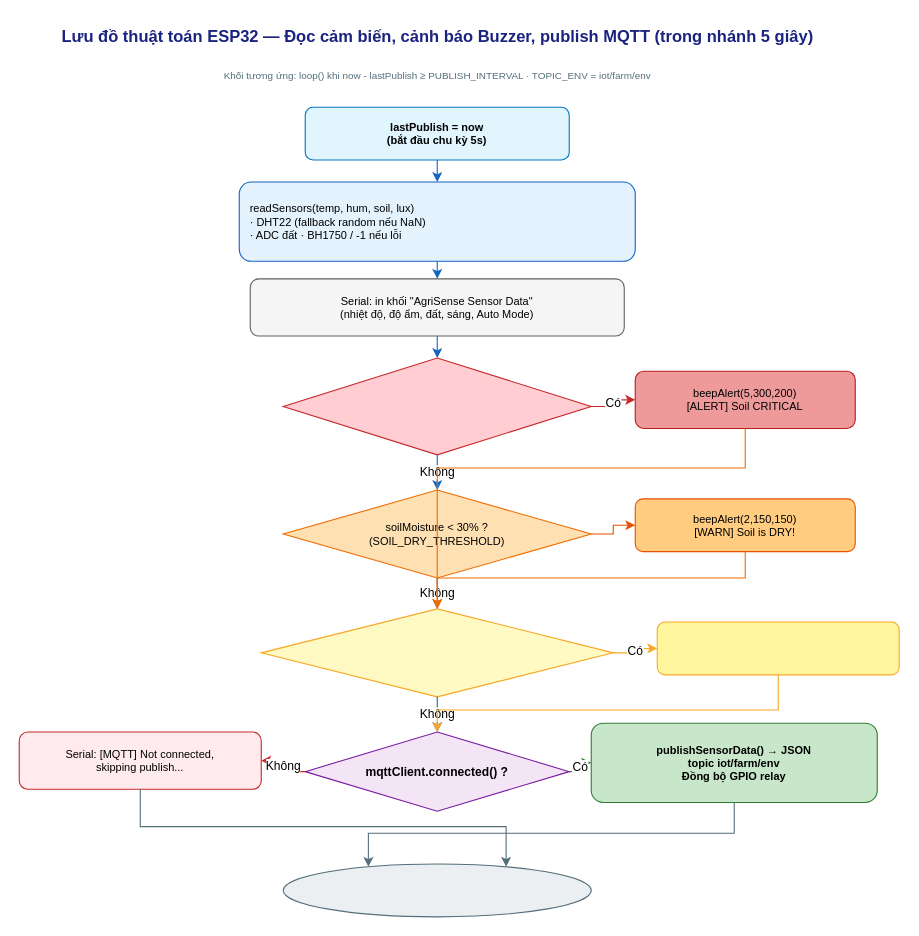
Some shapes in this 919 by 936 pixel diagram are drawn without their labels. The centre of each missing label's shape, as x and y in pixels:
Kết thúc nhánh 5s — quay lại loop() (Hình 24): the point at 436,890
lightSensorOK && lux ≥ 0 && lux < 1000 ?: the point at 436,652
Serial [WARN] Low light (chỉ log — toast trên Node-RED): the point at 777,648
soilMoisture < 20% ? (SOIL_CRITICAL_THRESHOLD): the point at 436,406
